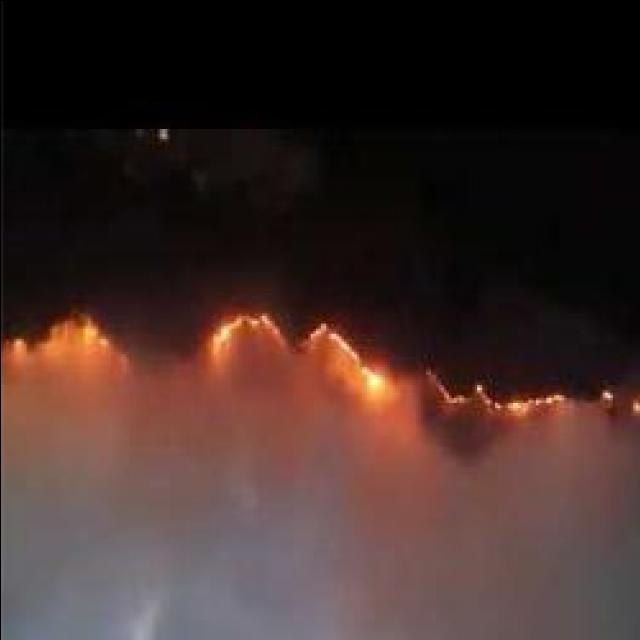fire: (506, 391, 562, 427), (351, 356, 385, 402), (210, 314, 242, 356), (75, 314, 106, 348)
smoke: (314, 492, 636, 640), (0, 378, 175, 636), (122, 388, 334, 508), (418, 412, 494, 474)
